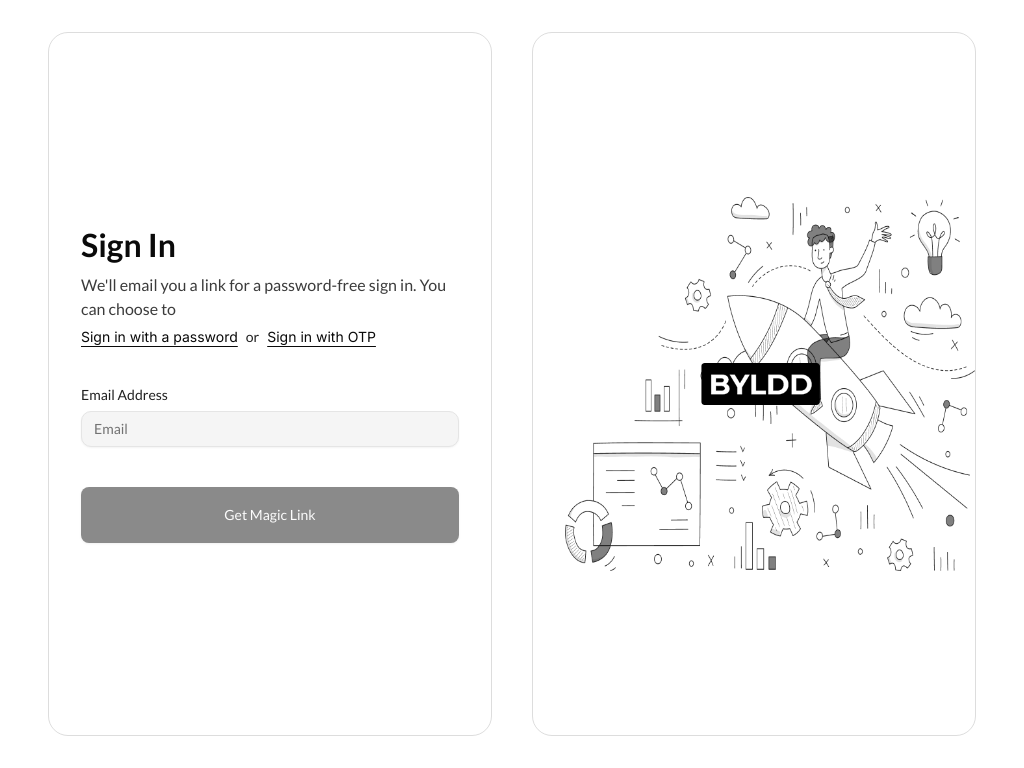
Test case: RequestMagicLinkForm template › surfaces the server message for a failure that is not EMAIL_NOT_FOUND
Type "user@x.test" into the field labelled "Email Address".
click(270, 429); type("user@x.test")  # box left=81, top=411, right=459, bottom=447
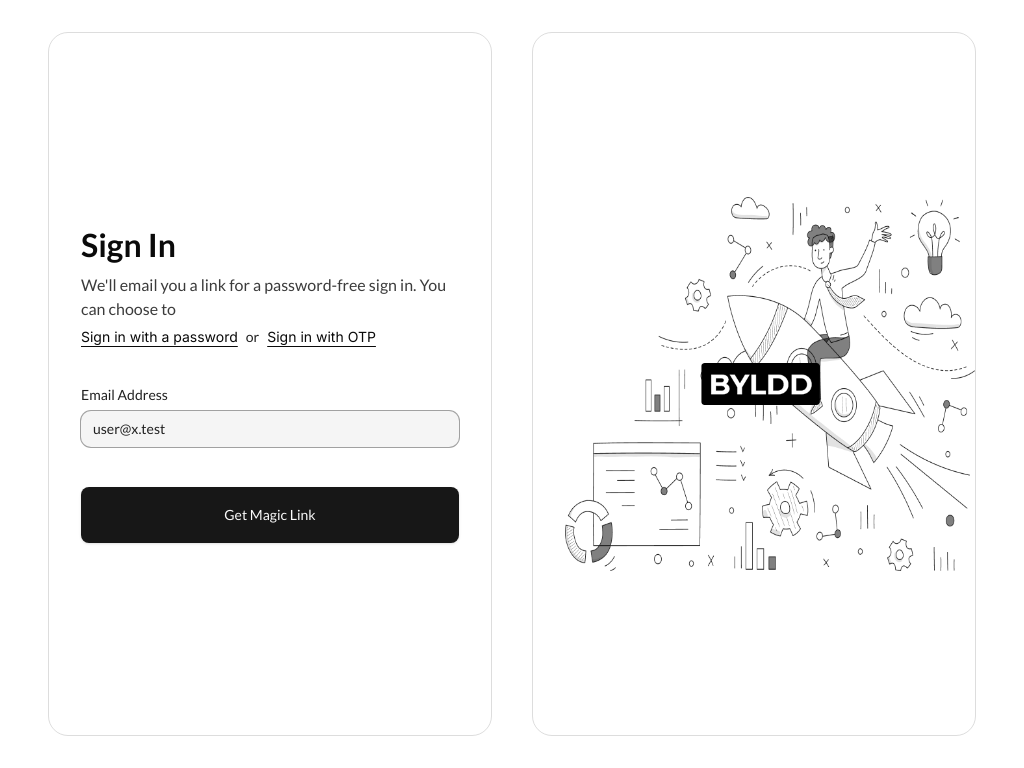
Click the button.
click(270, 515)  # box left=81, top=487, right=459, bottom=543
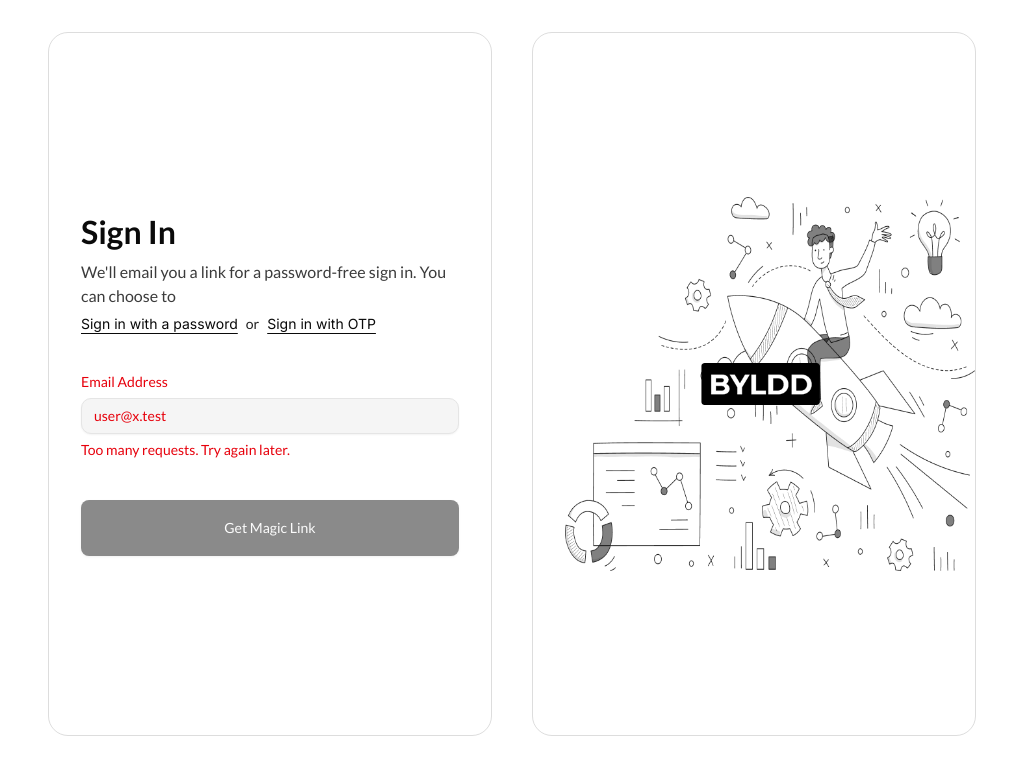
Now the text "Too many requests. Try again later." is shown, box left=81, top=441, right=290, bottom=458
